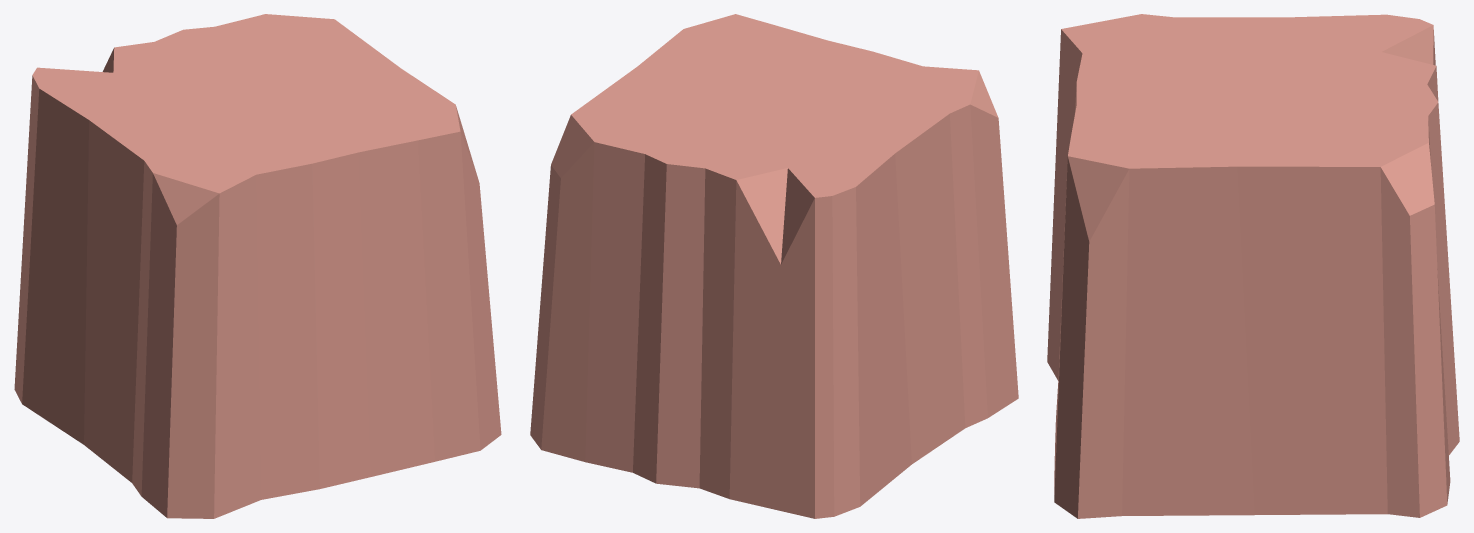
Rendered from SuperGrid_Cube9.fbx.
The picture shows the model from 3 angles, left to right: view 1: azimuth 30°, elevation 25°; view 2: azimuth 150°, elevation 25°; view 3: azimuth 270°, elevation 25°; orthographic projection. The views are drawn at different scales.
Parts seen in each view (by area): view 1: SuperGrid_Cube9; view 2: SuperGrid_Cube9; view 3: SuperGrid_Cube9.
Boxes of the visible parts, box(x1,y1,x2,y2) form: SuperGrid_Cube9: box(14, 14, 501, 518); SuperGrid_Cube9: box(530, 14, 1018, 518); SuperGrid_Cube9: box(1047, 14, 1459, 518).
Bounding box in the file's own units: 111 × 100 × 110.
